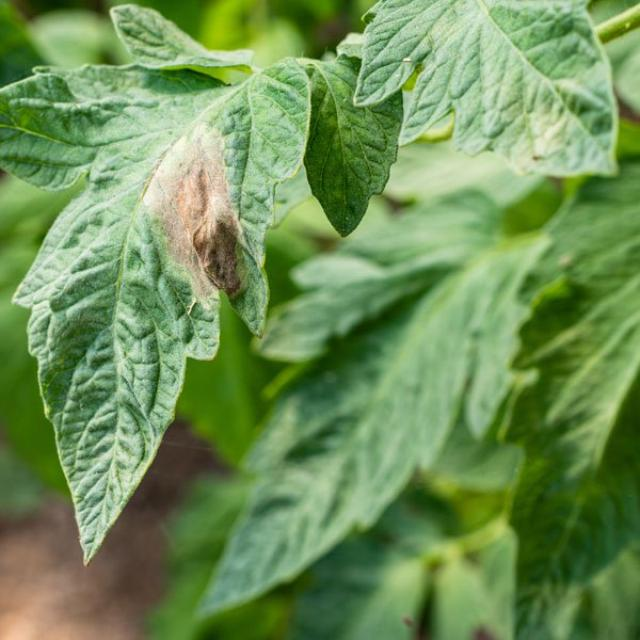Late_blight: (131, 120, 245, 310)
